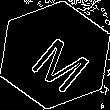M_NE: (19, 21, 91, 89)
